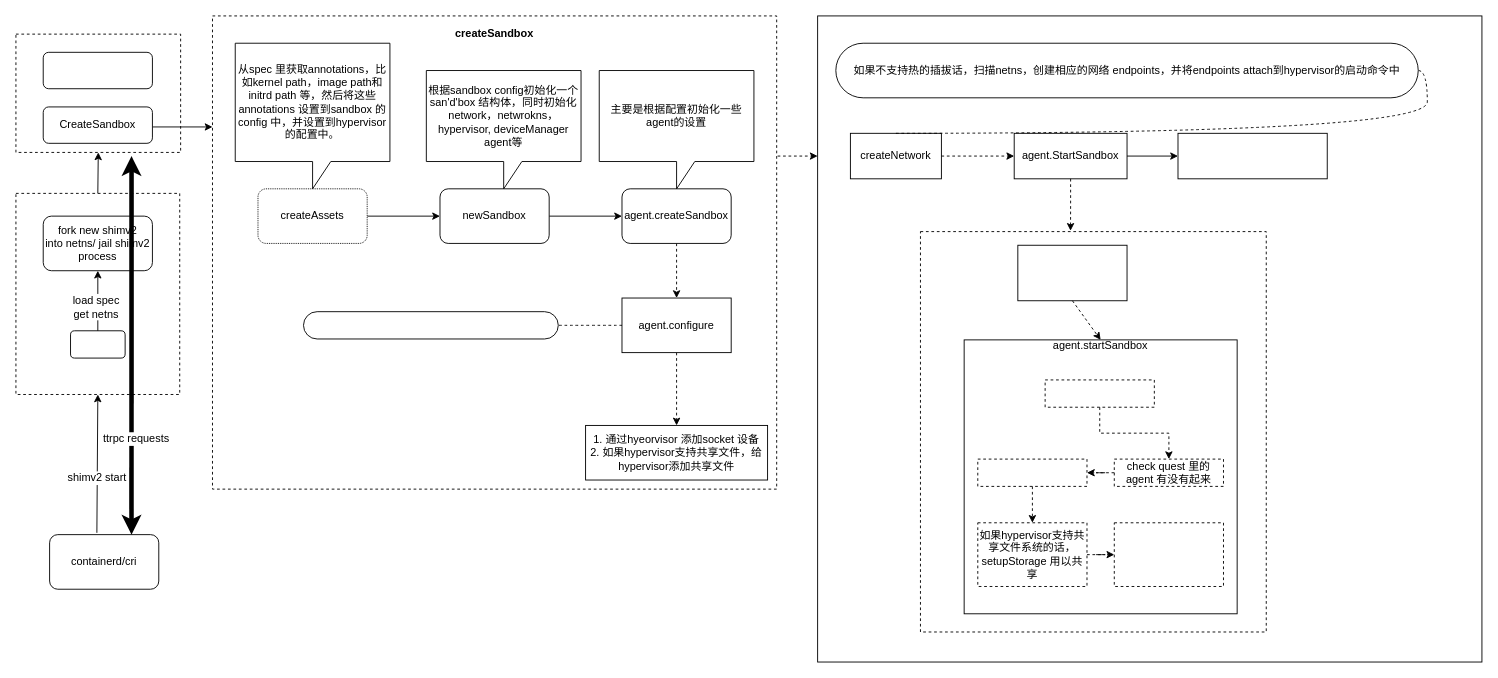
This 1498x678 diagram has some shape labels left out. The centre of each missing label's shape, as x and y in pixels:
hypervisor.StartSandbox: point (1252, 155)
shimv2: point (97, 344)
start ttrpc Server: point (97, 70)
update interface update routes: point (1032, 472)
发送 rpc.createSandbox 请求: point (1168, 554)
如果支持热插拔的话，将网络热插拔进hypervisor中: point (1072, 272)
获取hostname dns等: point (1099, 393)
调用hypervisor 创建用与agent 通信的socket: point (430, 325)
